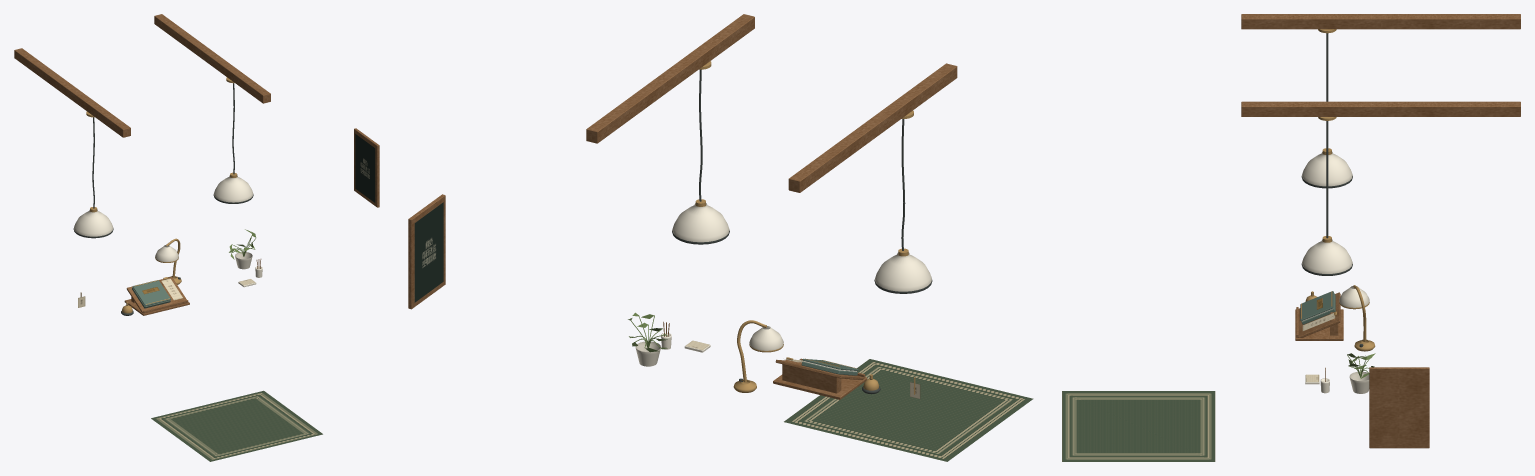
The model's file is MilkShopInteriorA.fbx.
The picture shows the model from 3 angles, left to right: view 1: azimuth 30°, elevation 25°; view 2: azimuth 150°, elevation 25°; view 3: azimuth 270°, elevation 25°; orthographic projection. The views are drawn at different scales.
Parts seen in each view (by area): view 1: InteriorDecor, Pendant_Left, Pendant_Right, OrderBook, CounterDetails, ReadingLamp; view 2: InteriorDecor, Pendant_Right, Pendant_Left, OrderBook, CounterDetails, ReadingLamp; view 3: InteriorDecor, Pendant_Right, Pendant_Left, OrderBook, CounterDetails, ReadingLamp.
Part boxes in pixels (x1,y1,x2,y2): InteriorDecor: (151,128,379,461); Pendant_Left: (14,48,130,238); Pendant_Right: (154,14,270,203); OrderBook: (124,277,189,315); CounterDetails: (229,229,262,287); ReadingLamp: (155,238,181,284); InteriorDecor: (408,194,1033,461); Pendant_Right: (586,14,754,244); Pendant_Left: (788,63,957,293); OrderBook: (773,357,867,399); CounterDetails: (628,312,710,366); ReadingLamp: (733,320,783,392); InteriorDecor: (1062,367,1429,461); Pendant_Right: (1241,101,1520,275); Pendant_Left: (1241,14,1520,188); OrderBook: (1295,291,1343,340); CounterDetails: (1305,353,1375,393); ReadingLamp: (1339,285,1375,351).
Size of the model in its own units: 4.8 by 4.09 by 4.65.
